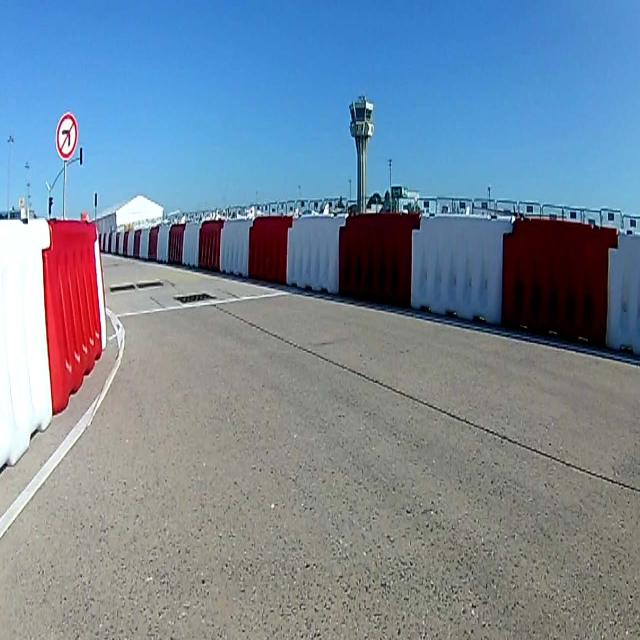soladonulmez: (56, 112, 78, 158)
